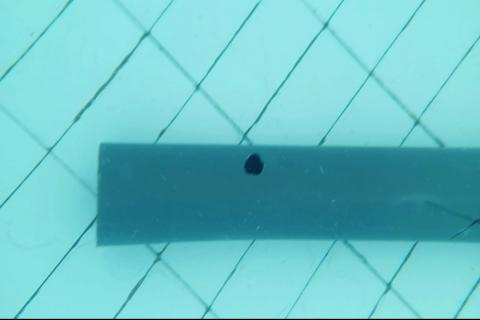kebocoran: (242, 151, 264, 177)
keretakan: (424, 198, 479, 238)
